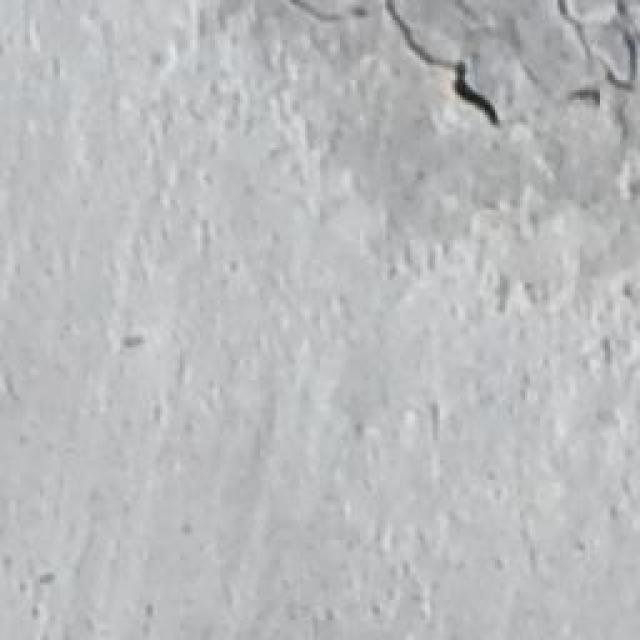concrete-crack: (378, 0, 510, 132)
